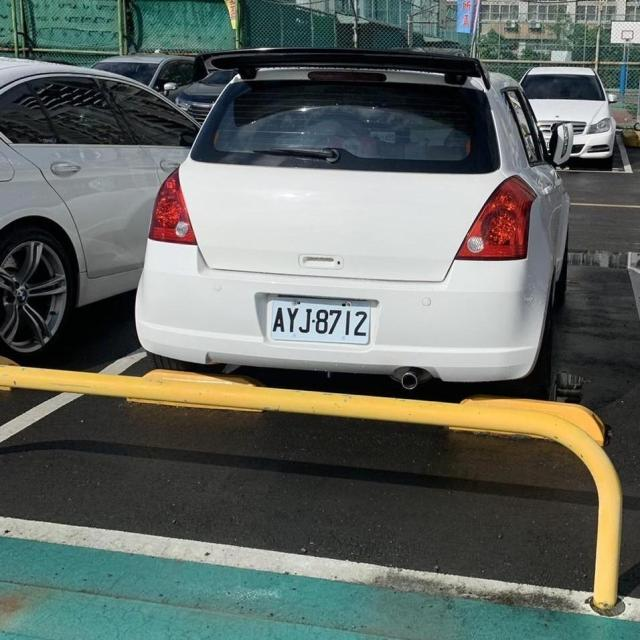W: (262, 287, 381, 352)
